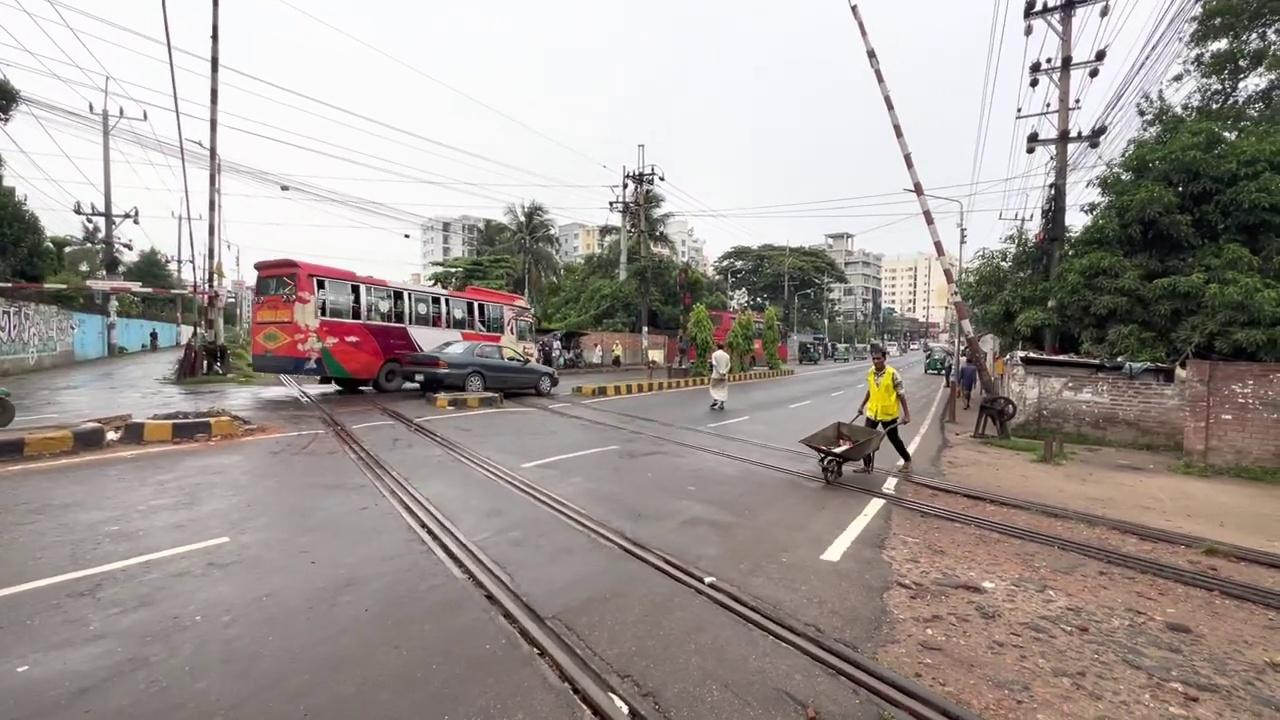Bollard: (399, 339, 559, 396)
Downstairs: (797, 419, 886, 484)
Fence: (853, 343, 912, 473), (708, 342, 730, 409), (958, 356, 977, 409), (610, 339, 622, 368), (149, 327, 158, 351)
Garbage: (848, 1, 996, 395), (1017, 0, 1111, 355), (203, 0, 222, 370)
Motorcycle: (504, 393, 1278, 610)
Railroad-crossing: (492, 197, 562, 300), (684, 301, 714, 373), (760, 303, 782, 368)
